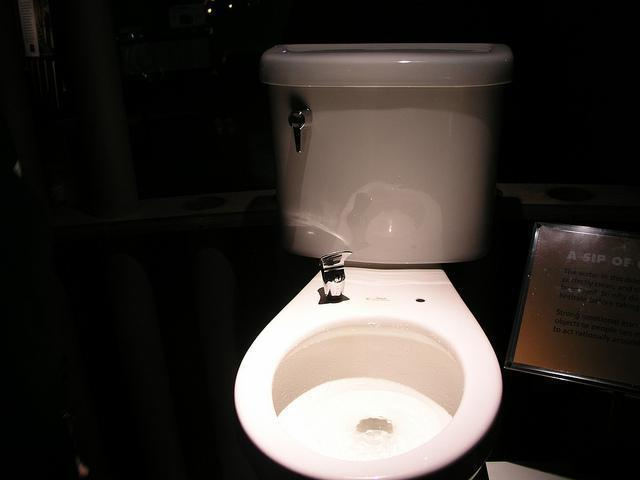Sanitario: (210, 40, 514, 473)
